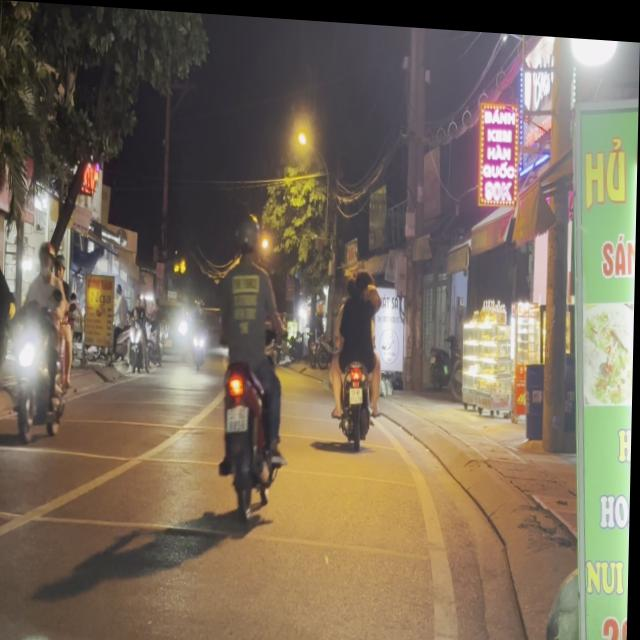helmet: (235, 206, 262, 259), (37, 239, 55, 276)
licenseplate: (213, 200, 291, 525), (10, 235, 77, 448), (330, 256, 387, 444)
motorcyclist: (355, 262, 373, 295)
nohelmet: (227, 402, 250, 429), (351, 382, 364, 398)
